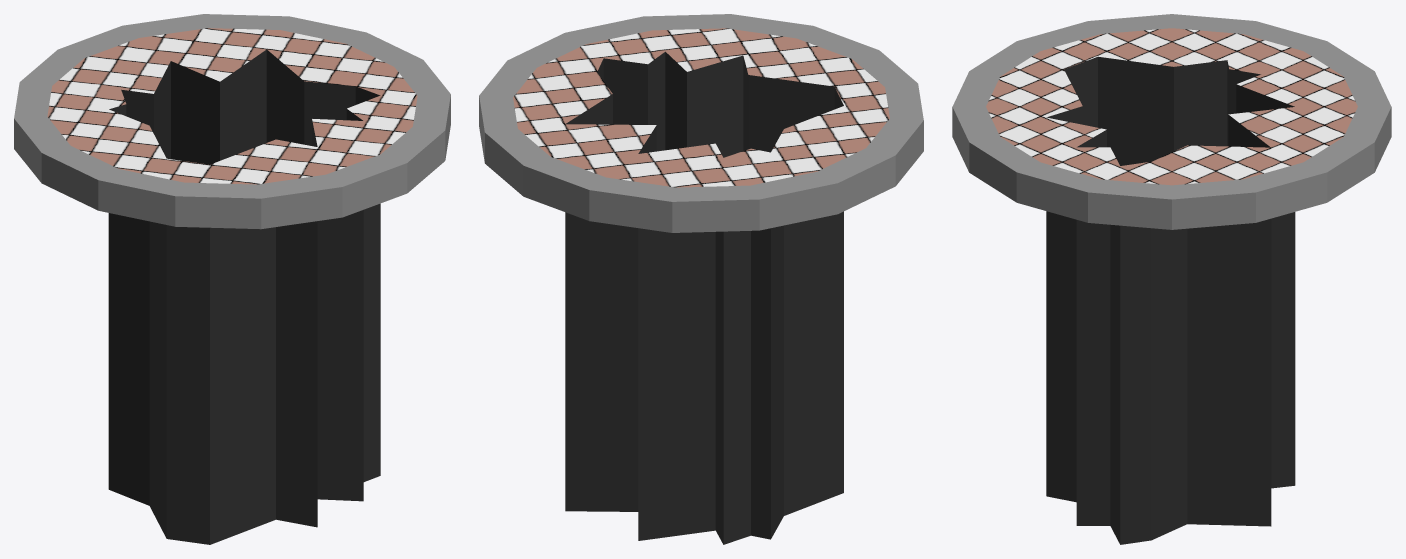
File: roundchunk_brokencenter.fbx
3 renders of one model, left to right at view 1: azimuth 30°, elevation 25°; view 2: azimuth 150°, elevation 25°; view 3: azimuth 270°, elevation 25°, orthographic. The views are drawn at different scales.
Visible parts, largest first — view 1: roundchunk_brokencenter; view 2: roundchunk_brokencenter; view 3: roundchunk_brokencenter.
Boxes of the visible parts, bbox=[...] form: roundchunk_brokencenter: bbox=[14, 14, 450, 544]; roundchunk_brokencenter: bbox=[479, 14, 923, 544]; roundchunk_brokencenter: bbox=[952, 14, 1391, 544].
Size of the model in its own units: 65.5 by 65.5 by 62.37.
